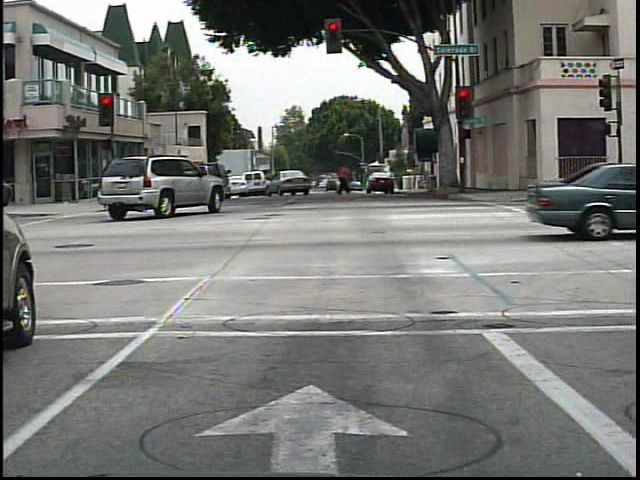person: (332, 157, 359, 207)
